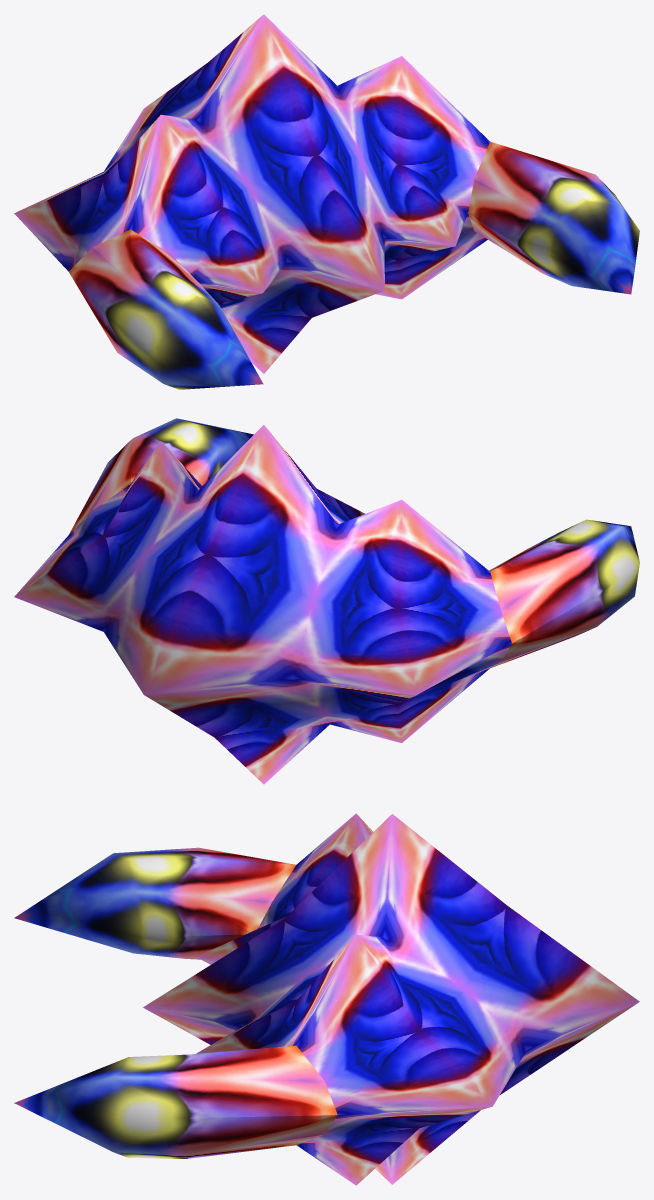
Rendered from ship-44.fbx.
The picture shows the model from 3 angles, top to bottom: view 1: azimuth 30°, elevation 25°; view 2: azimuth 150°, elevation 25°; view 3: azimuth 270°, elevation 25°; orthographic projection. The views are drawn at different scales.
Parts seen in each view (by area): view 1: ship-44; view 2: ship-44; view 3: ship-44.
Part boxes in pixels (x1,y1,x2,y2): ship-44: (14, 14, 639, 389); ship-44: (14, 418, 639, 784); ship-44: (14, 813, 639, 1185).
Bounding box in the file's own units: 45.13 × 30.91 × 47.23.
